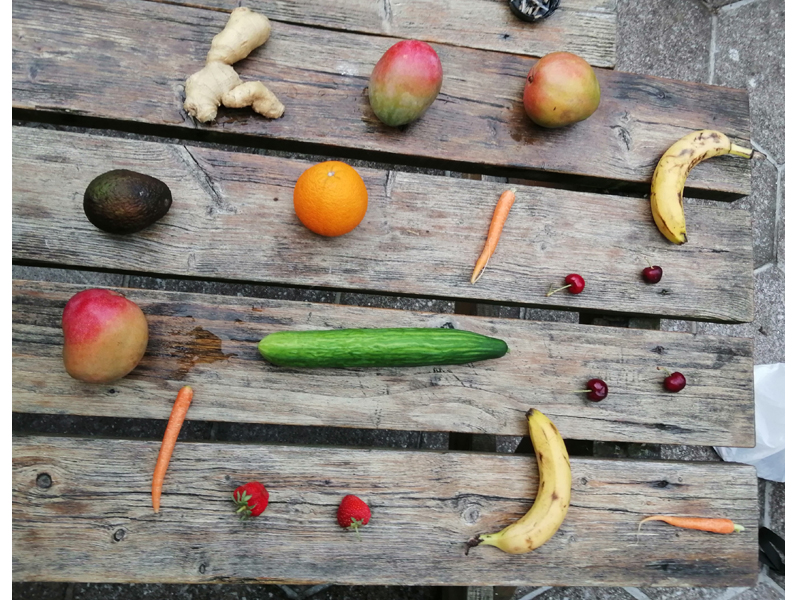avocado: (82, 170, 176, 232)
banana: (467, 396, 575, 562), (644, 125, 760, 247)
carrot: (149, 383, 199, 523), (466, 178, 521, 294), (632, 512, 749, 547)
cherry: (651, 349, 698, 398), (540, 269, 590, 304), (637, 246, 668, 292), (565, 379, 612, 404)
cucumber: (240, 315, 515, 373)
ginger: (176, 5, 294, 127)
mango: (56, 285, 147, 390), (363, 36, 448, 137), (516, 48, 605, 132)
orange: (286, 158, 372, 245)
strawberry: (224, 473, 273, 529), (330, 491, 377, 537)
